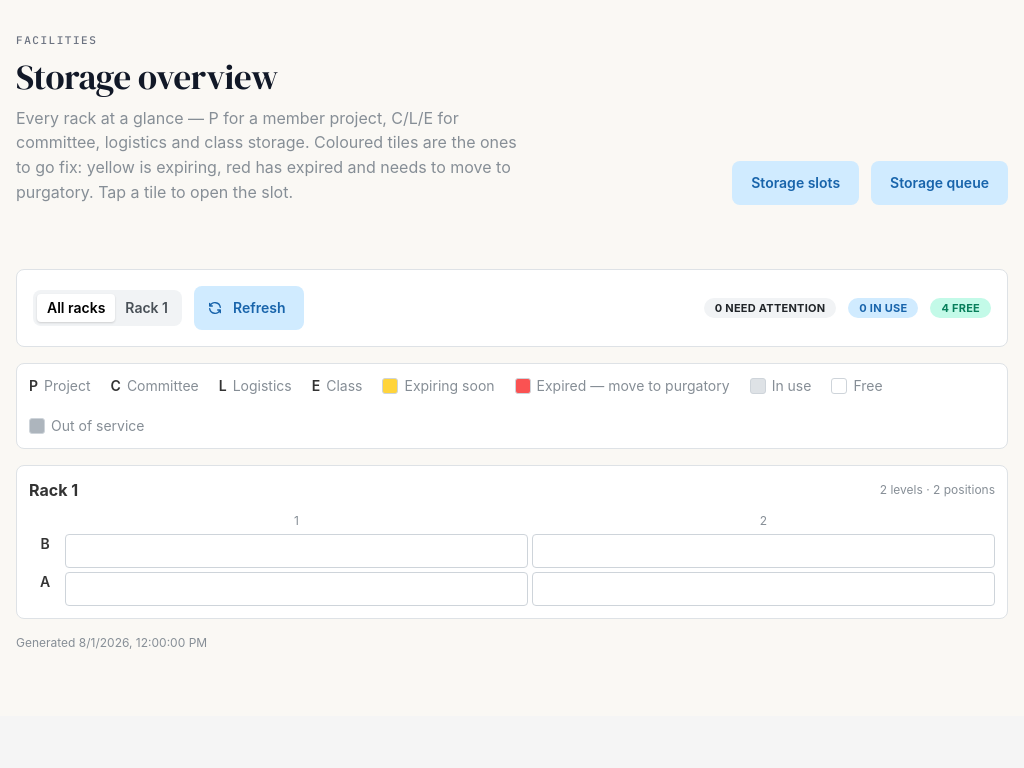
Test: StorageOverviewPage — C/L/E staff assignment › shows the conflict when the slot was taken between the load and the click
The image size is (1024, 768).
Click the button with test id "cell-1A1": (296, 589) [65, 572, 528, 606]
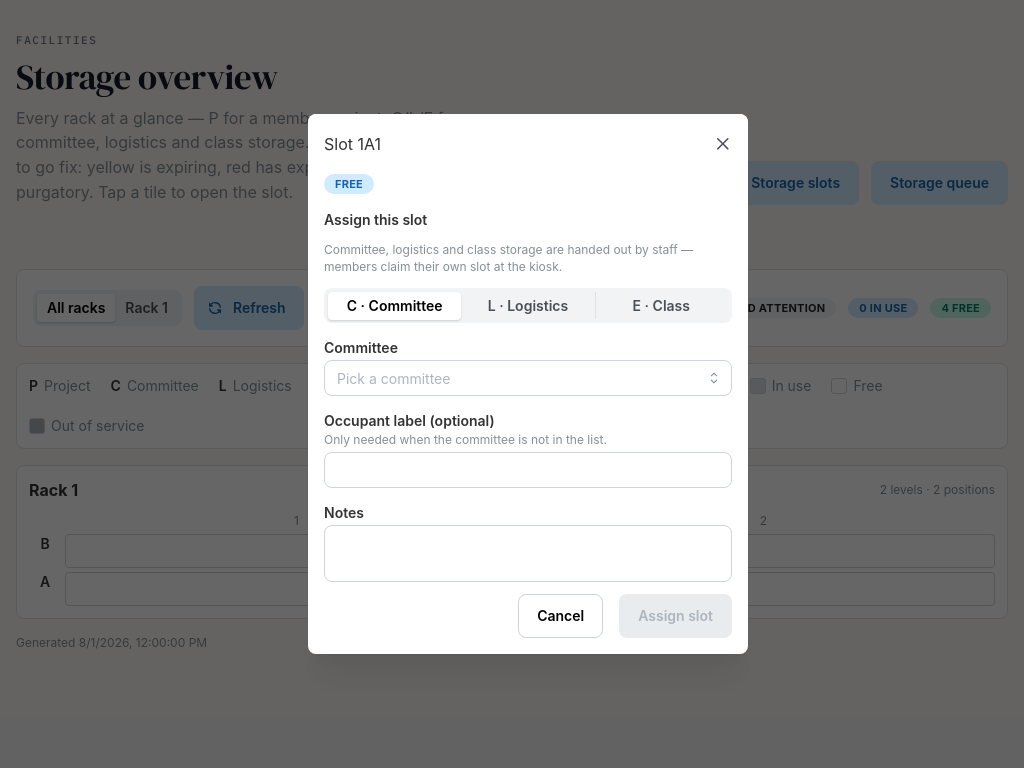
Check: the element with test id "slot-assign-form" is shown, box [324, 210, 732, 638]
In the field with test id "assign-label": (528, 470) [324, 452, 732, 488], type "Welding"
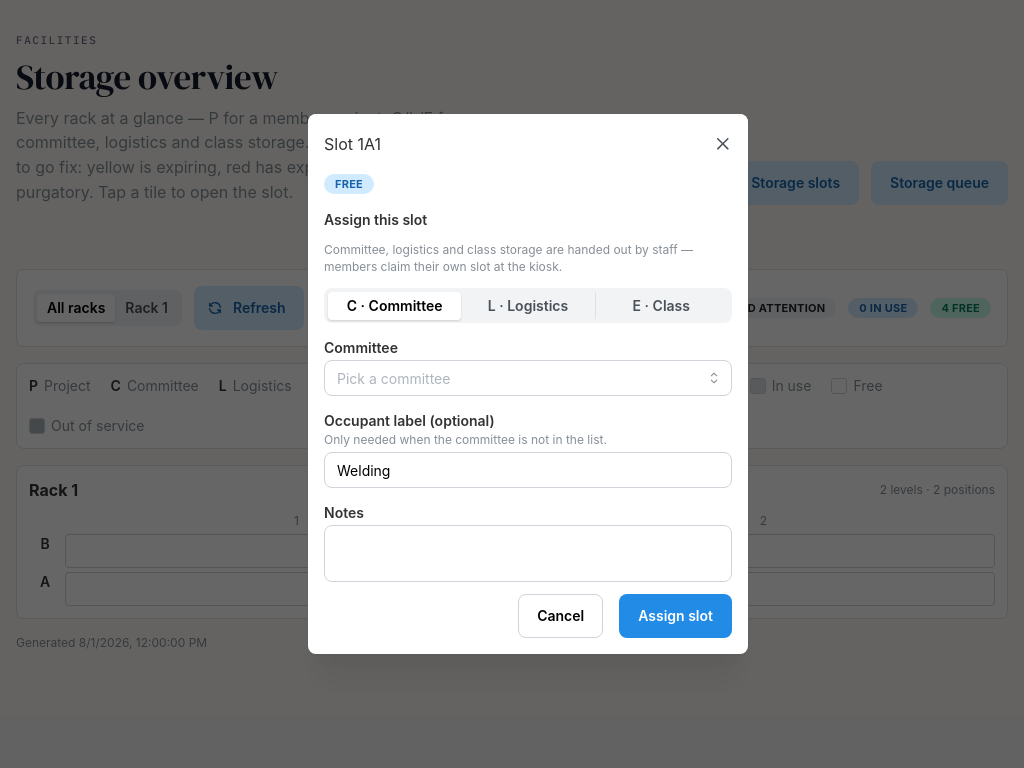
Click the button with test id "assign-submit": (676, 616) [619, 594, 732, 638]
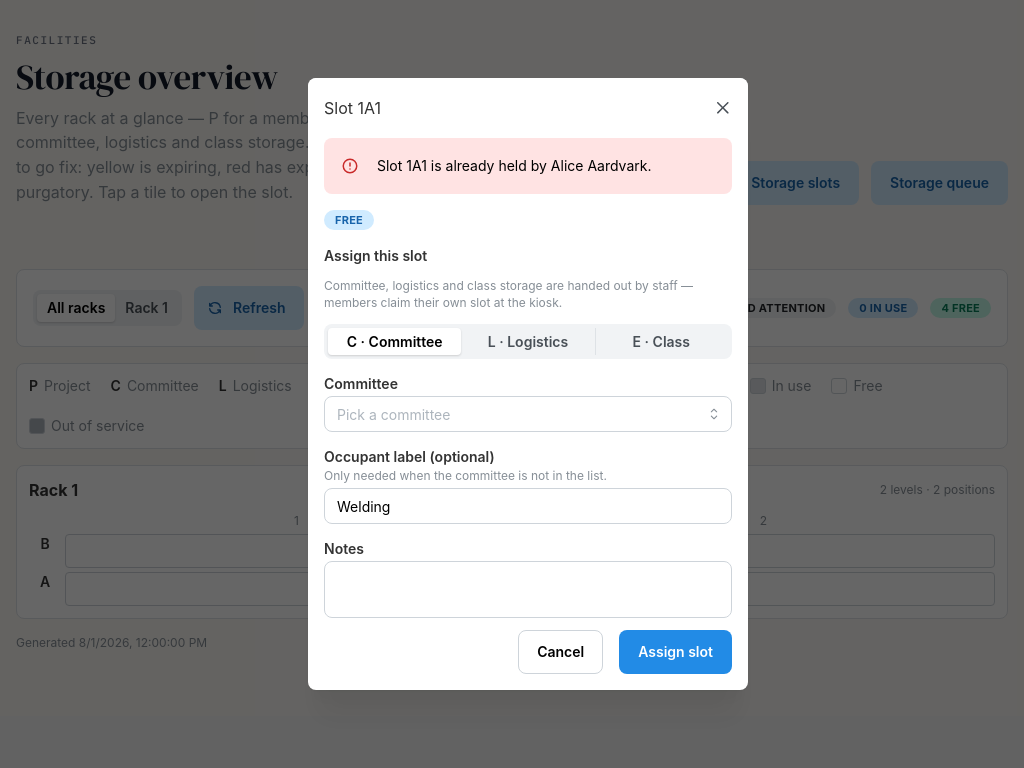
Check: the message with test id "slot-detail-error" reads "Slot 1A1 is already held by Alice Aardvark.", box [377, 157, 652, 174]
